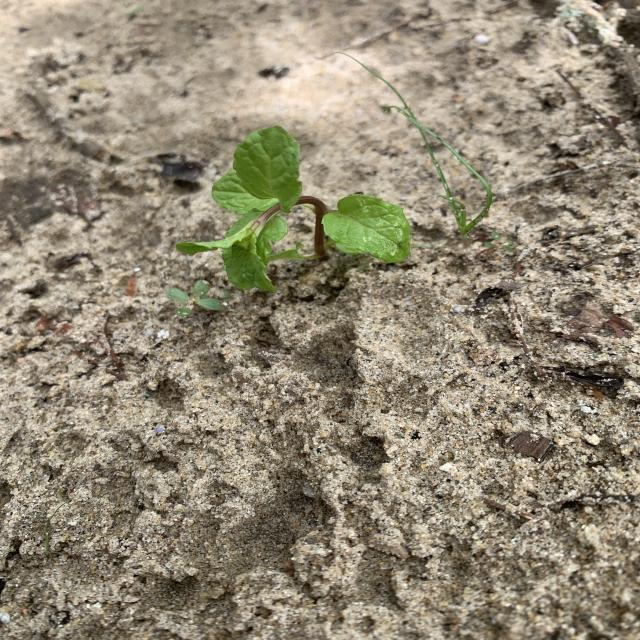crop: (175, 126, 410, 291)
weed: (385, 93, 493, 244), (167, 280, 226, 316), (488, 230, 517, 262)
